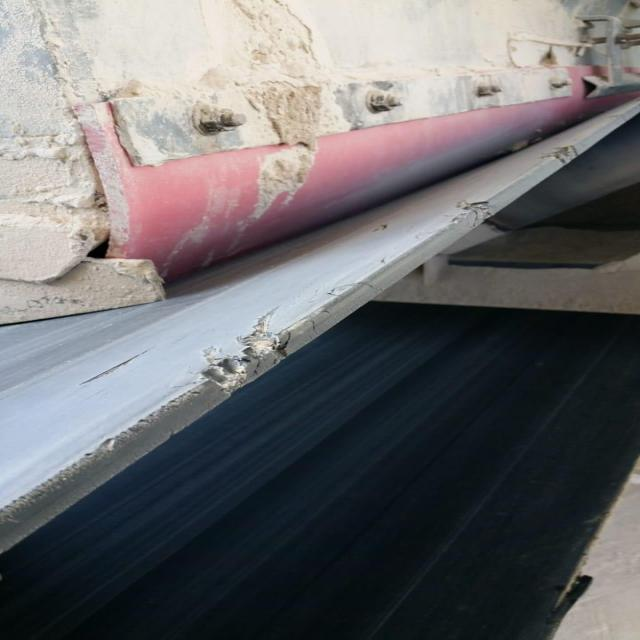Tear: (75, 346, 158, 394)
